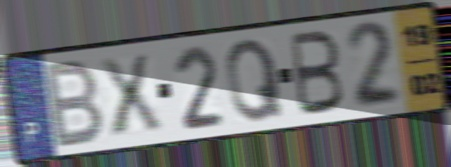2: (344, 19, 405, 115), (172, 43, 227, 132)
B: (43, 56, 107, 151), (288, 28, 346, 119)
Q: (223, 36, 287, 125)
X: (95, 51, 167, 140)
